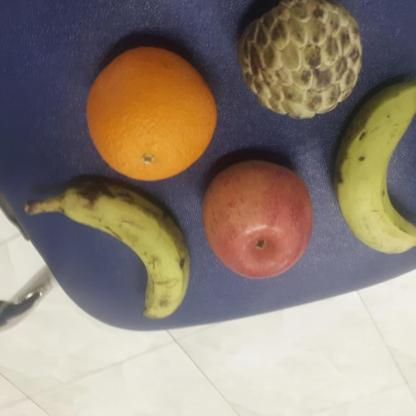annona: (238, 0, 365, 122)
apple: (200, 158, 314, 282)
banana: (56, 178, 194, 321), (330, 77, 416, 253)
orange: (81, 43, 220, 183)
